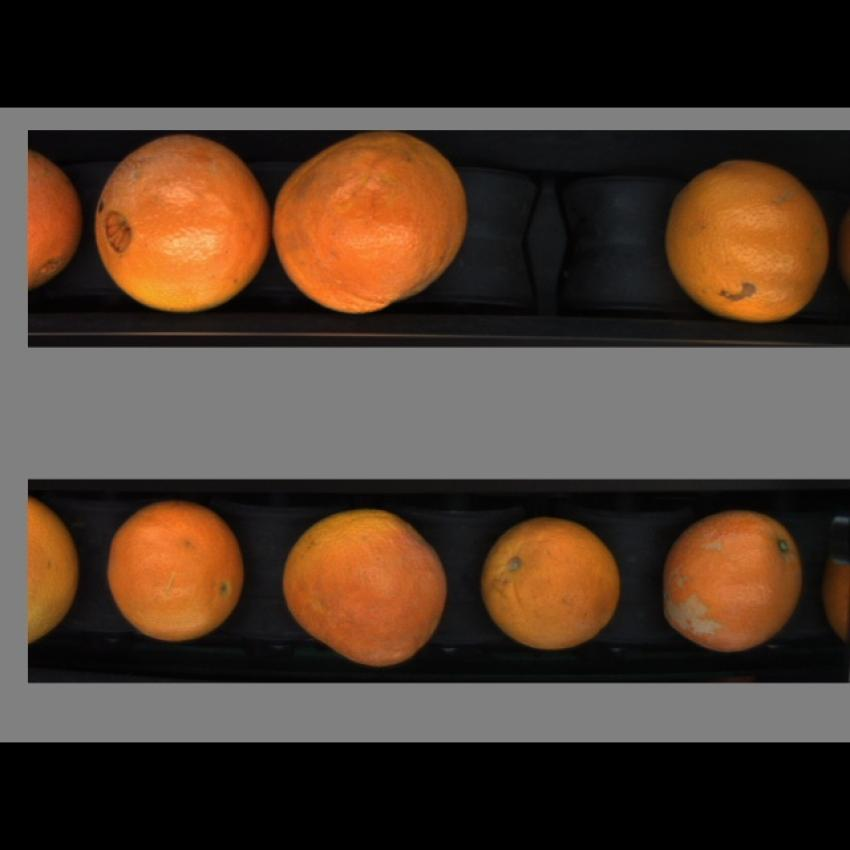Buen estado: (101, 496, 252, 647), (29, 490, 80, 657), (28, 146, 81, 298)
Mal estado: (273, 130, 477, 316), (657, 148, 835, 328), (92, 139, 270, 313), (282, 509, 450, 666), (656, 509, 809, 656), (477, 516, 634, 652)
